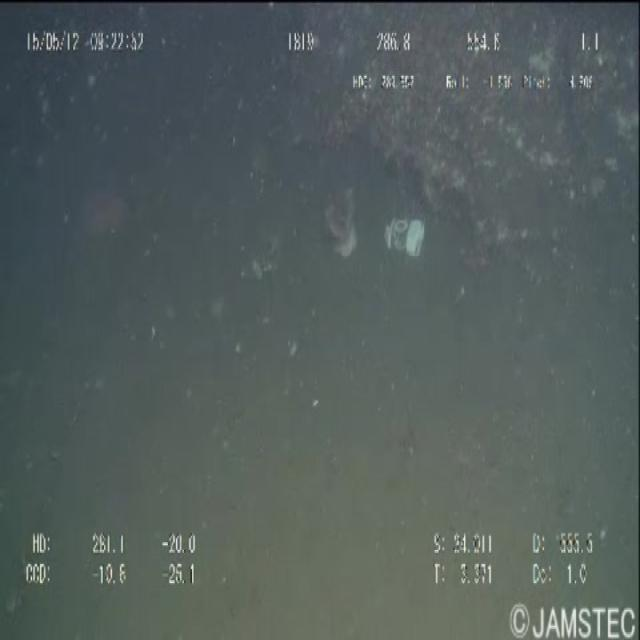Litter: (382, 177, 436, 281)
